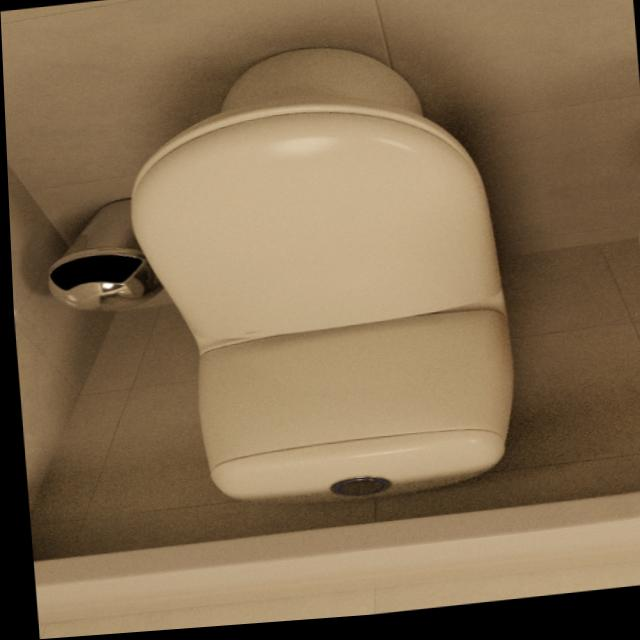toilet: (116, 34, 518, 526)
